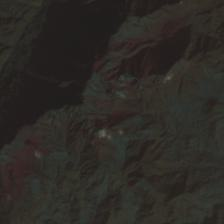landslides: (202, 65, 212, 81)
